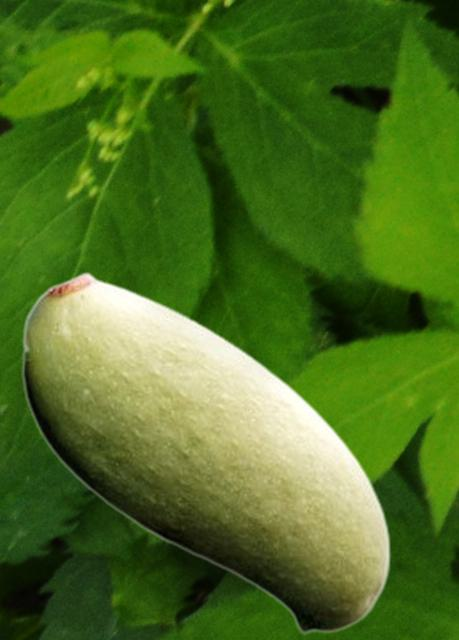green_mango: (21, 270, 390, 634)
